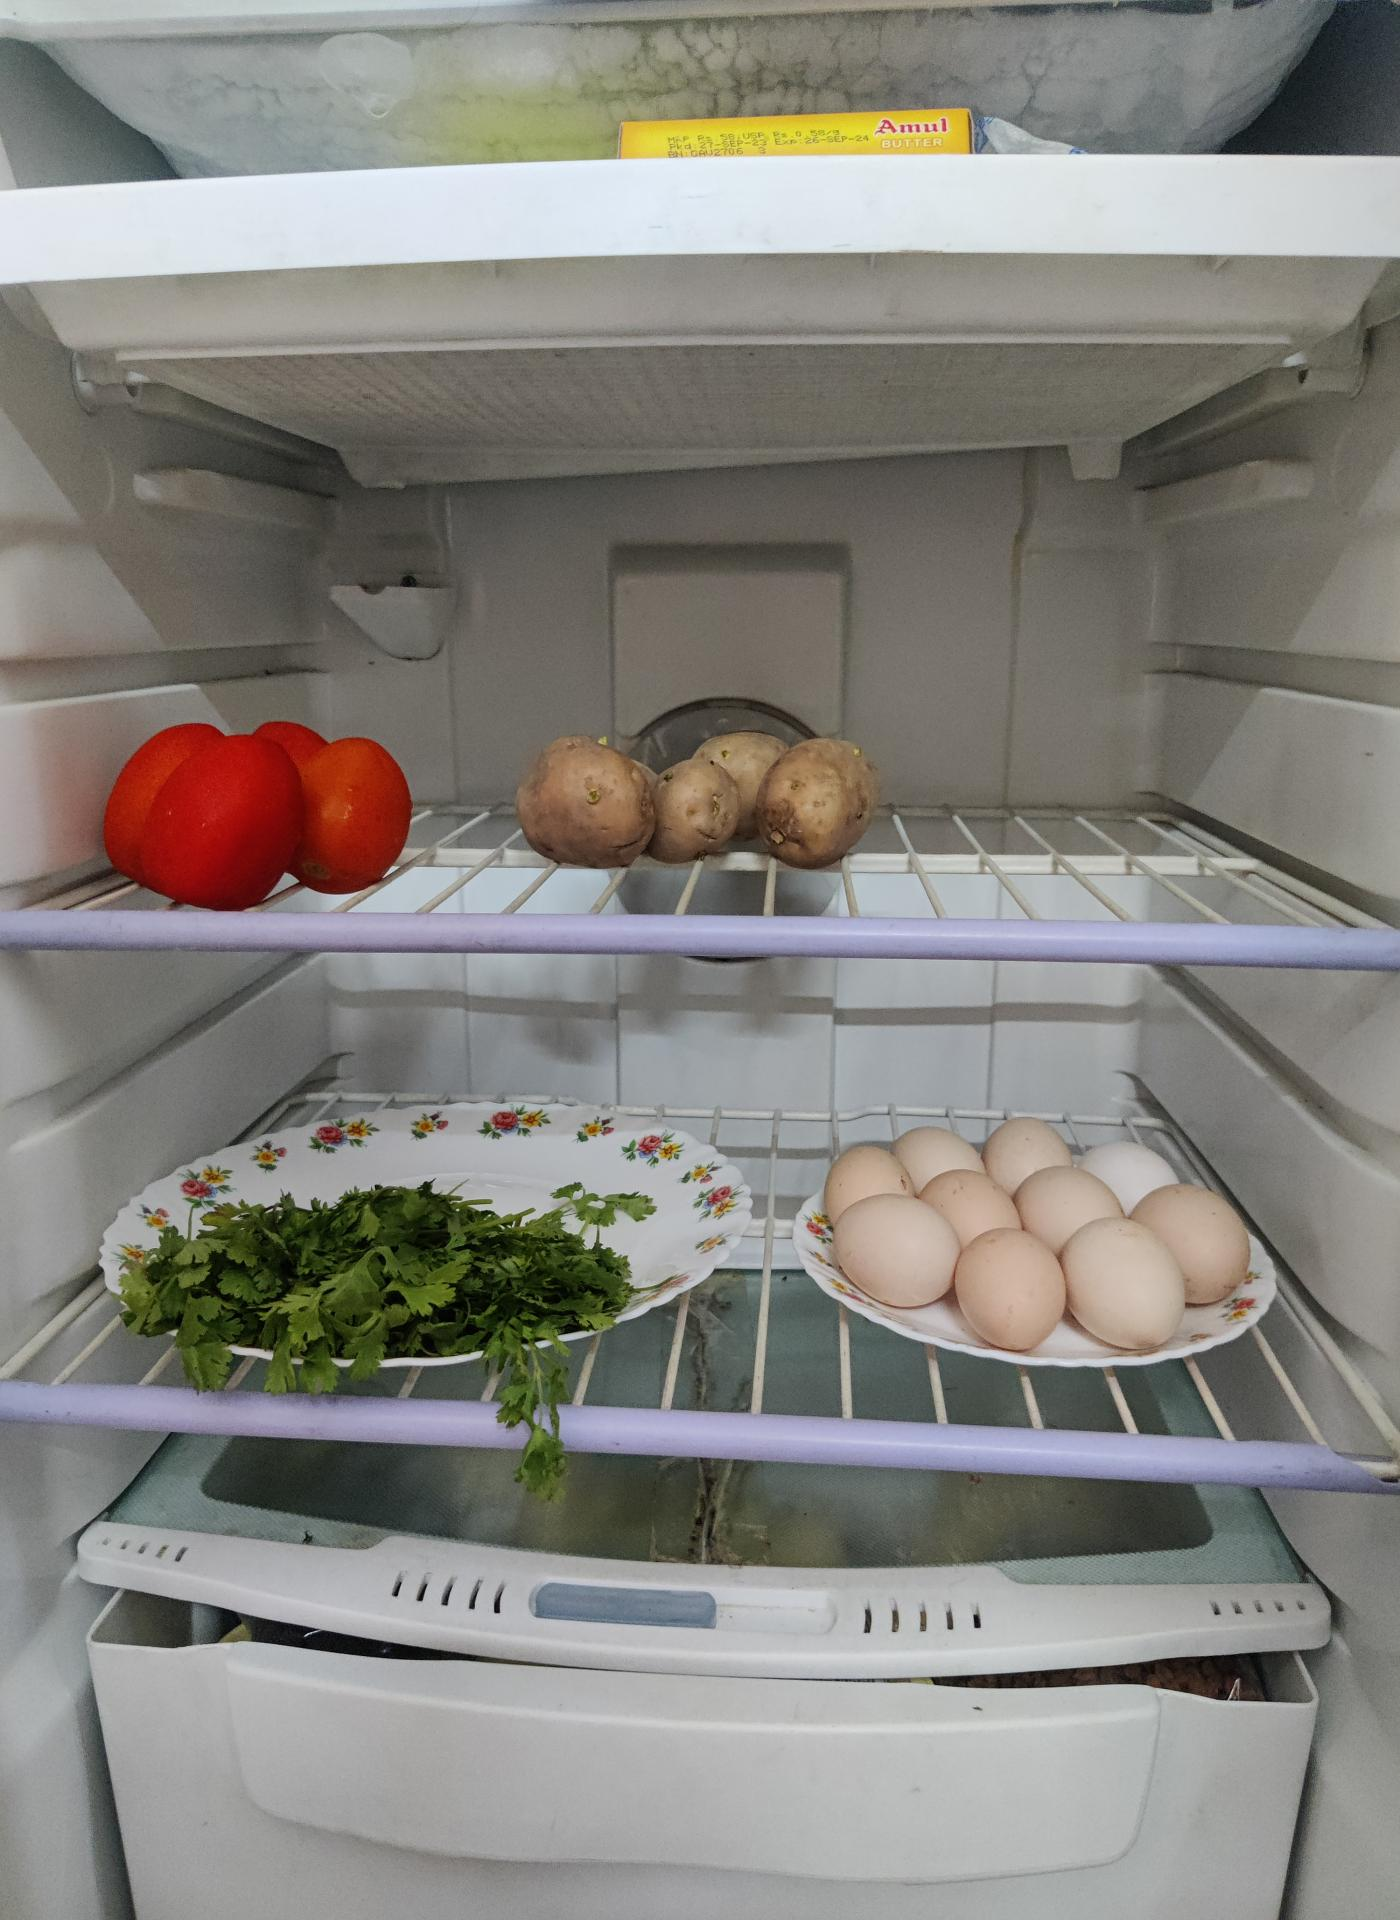coriander: (122, 1184, 632, 1386)
egg: (808, 1120, 1263, 1365)
potato: (516, 729, 883, 875)
tomato: (109, 723, 417, 914)
